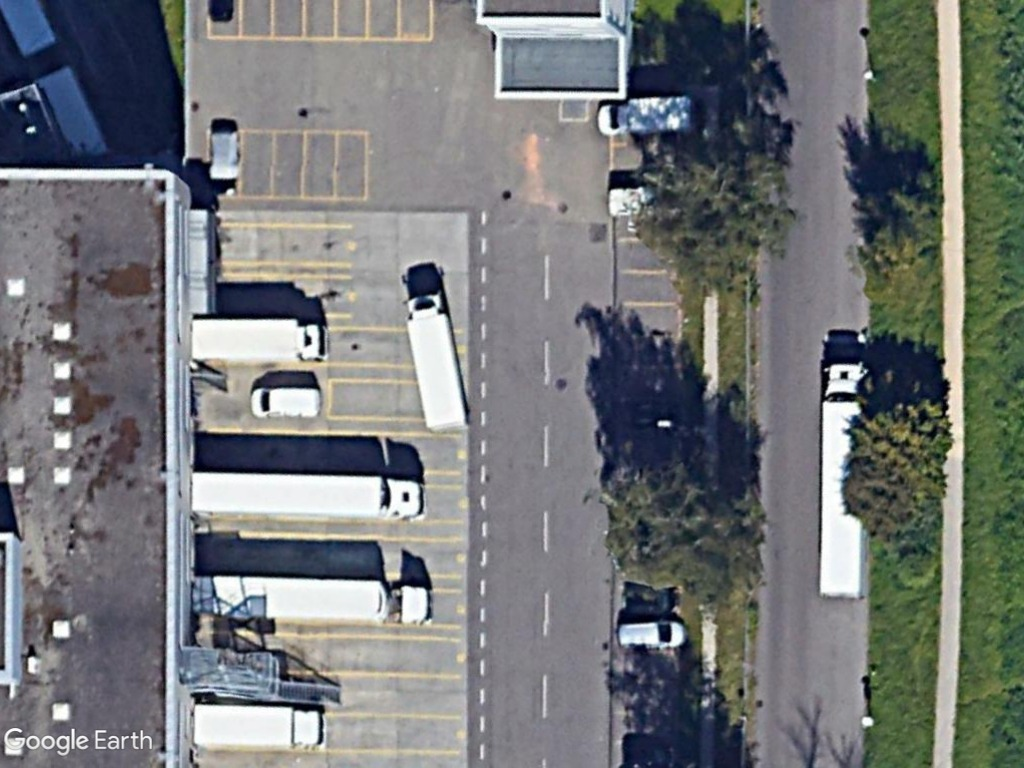longvehicle: (190, 569, 439, 631), (189, 469, 432, 524)
truck: (401, 288, 471, 437), (189, 700, 328, 752), (189, 315, 330, 363)
van: (245, 383, 325, 422)
